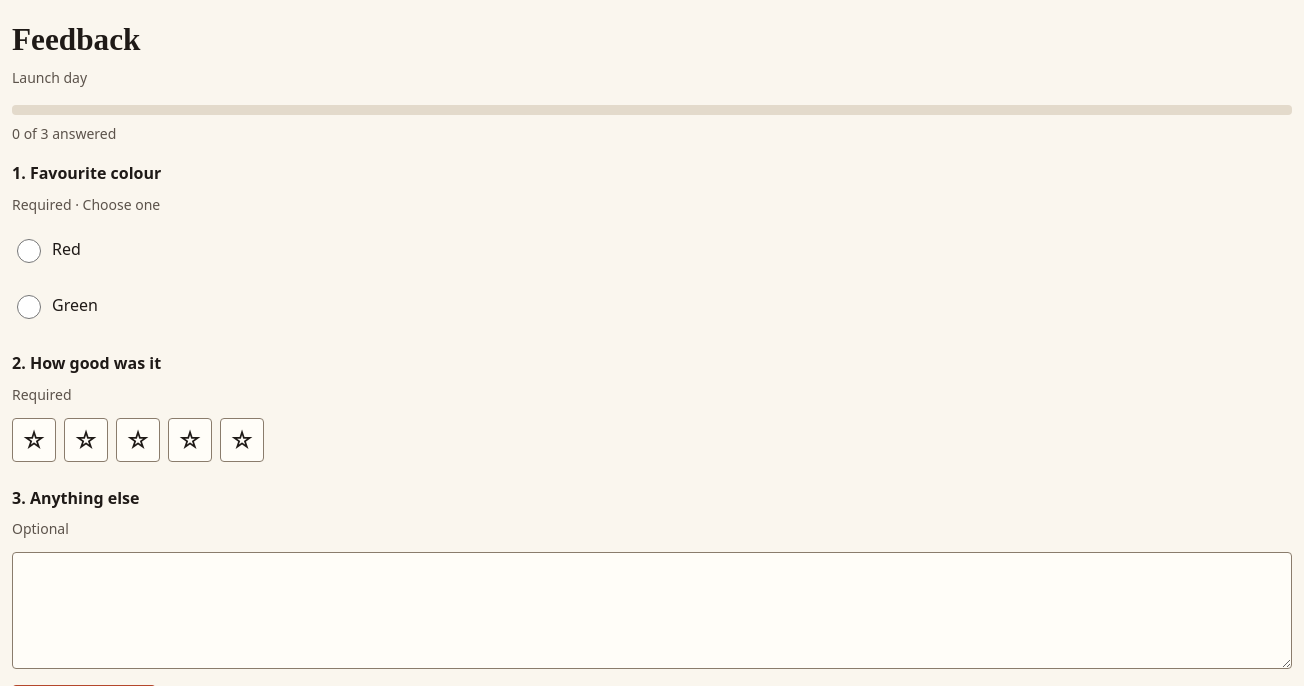
Test case: joins on arrival and shows progress and required markers
This screenshot has width=1304, height=686.
Expected: the heading "Feedback" is shown, [12,22,140,57]
Expected: the text "0 of 3 answered" is shown, [12,124,116,143]
Step 1. Click the radio button labelled "Green" → (29,307), box [17,295,41,319]
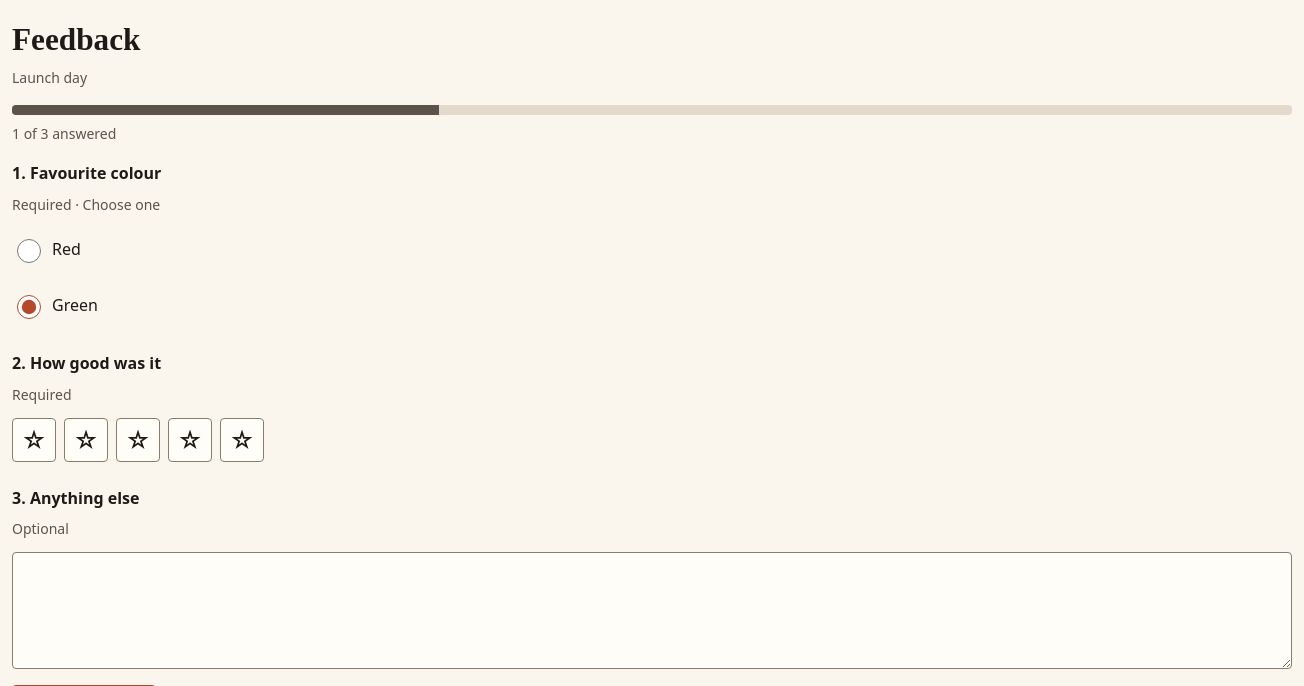
Expected: the progress indicator named "Questions answered" holds "1", [12,105,1292,115]
Now the text "1 of 3 answered" is shown, box [12,124,116,143]
